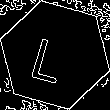L_N: (33, 26, 77, 84)
